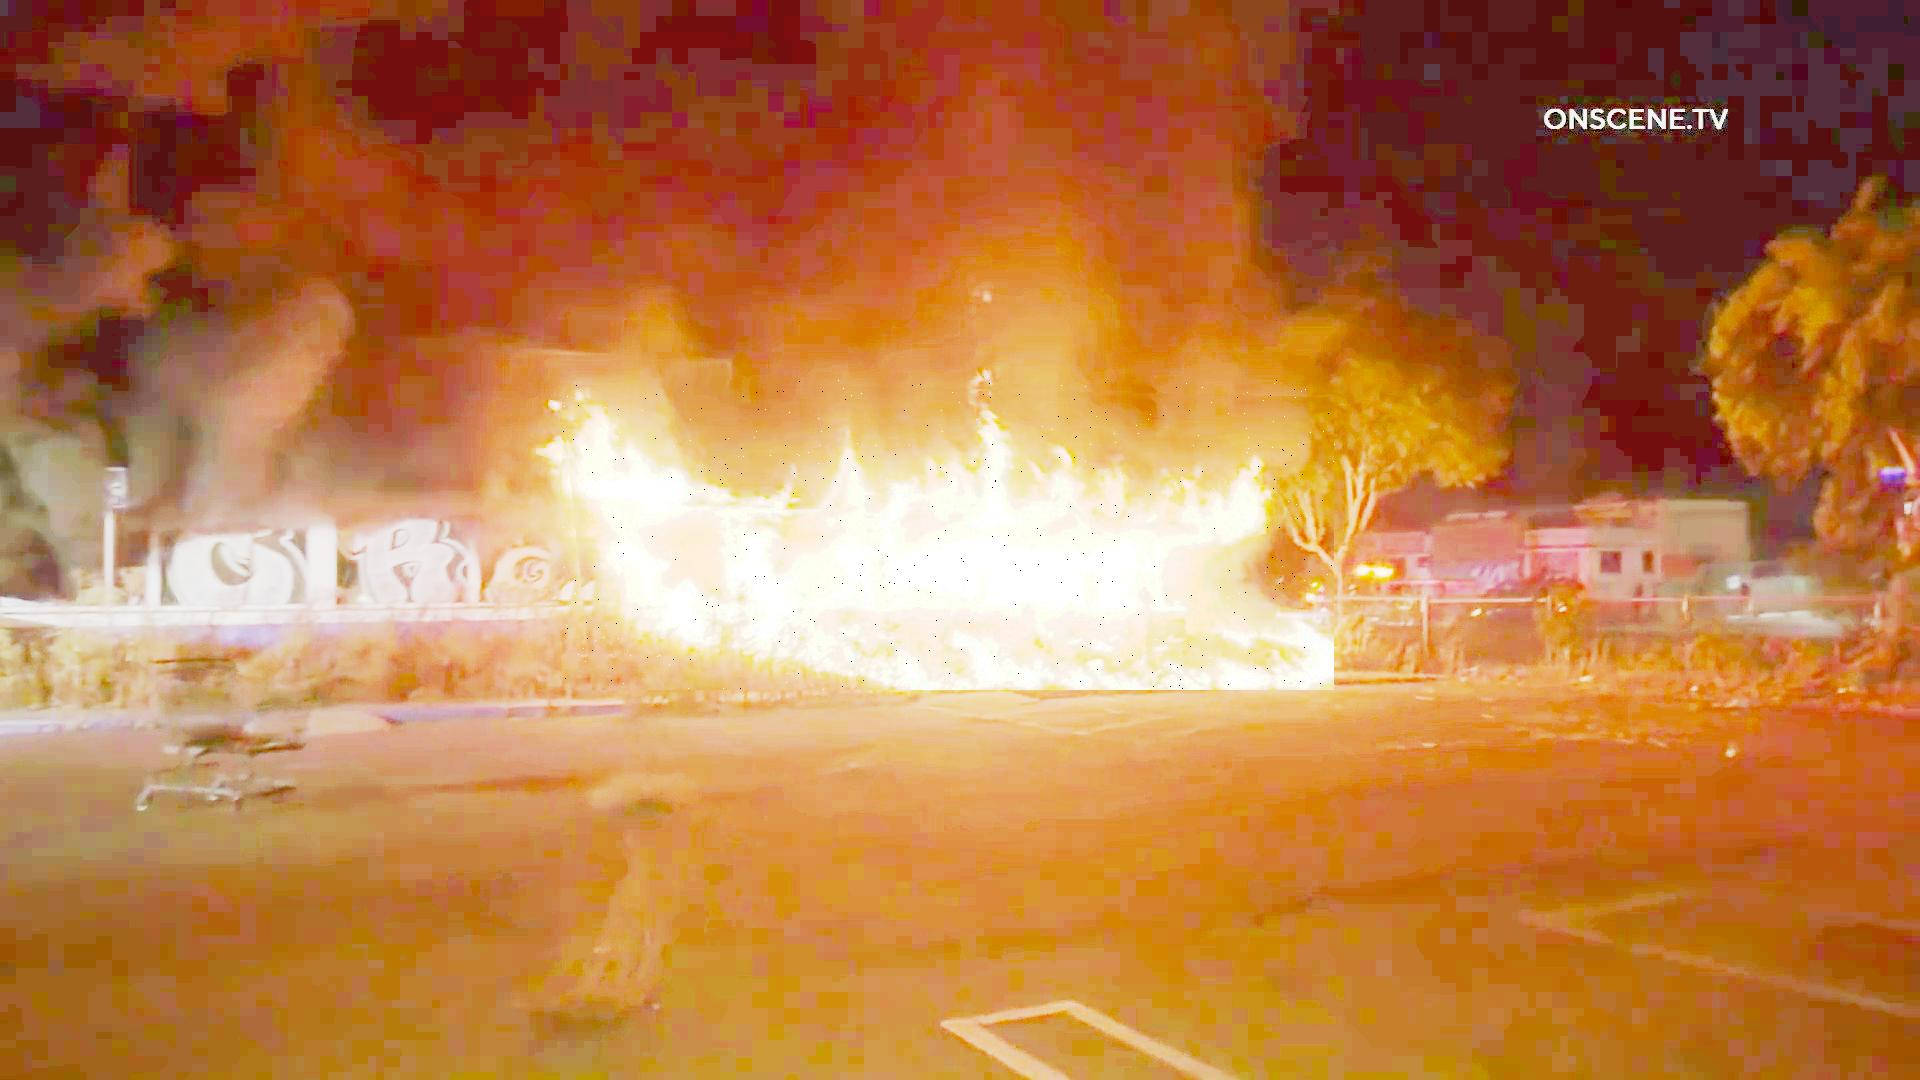fire: (563, 381, 1337, 691)
